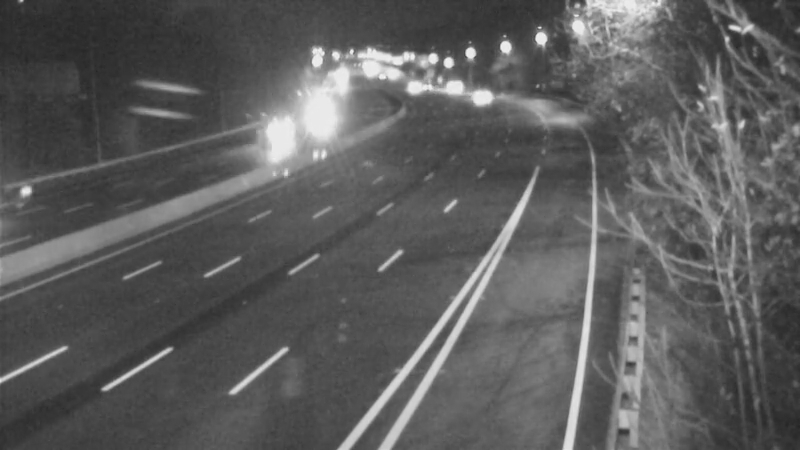vehicle: (1, 162, 68, 242), (388, 63, 438, 113), (423, 60, 473, 110), (456, 68, 506, 118), (254, 110, 304, 160), (292, 94, 342, 144)
